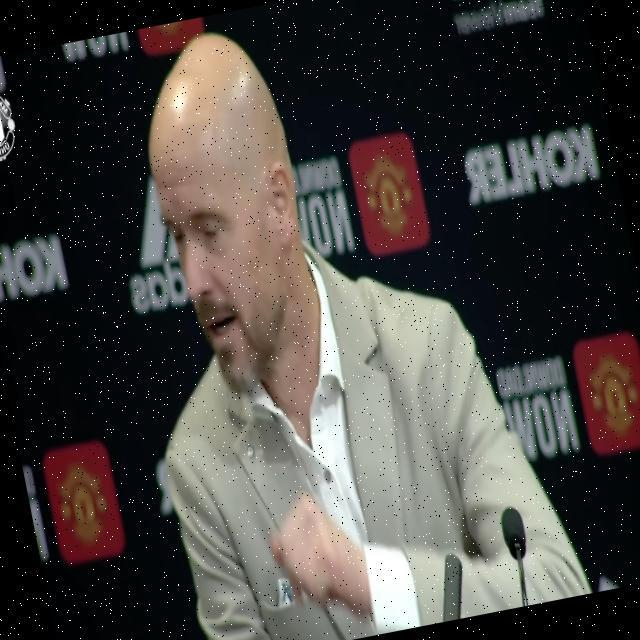Kohler: (460, 125, 602, 207)
TeamViewer: (444, 0, 547, 33)
